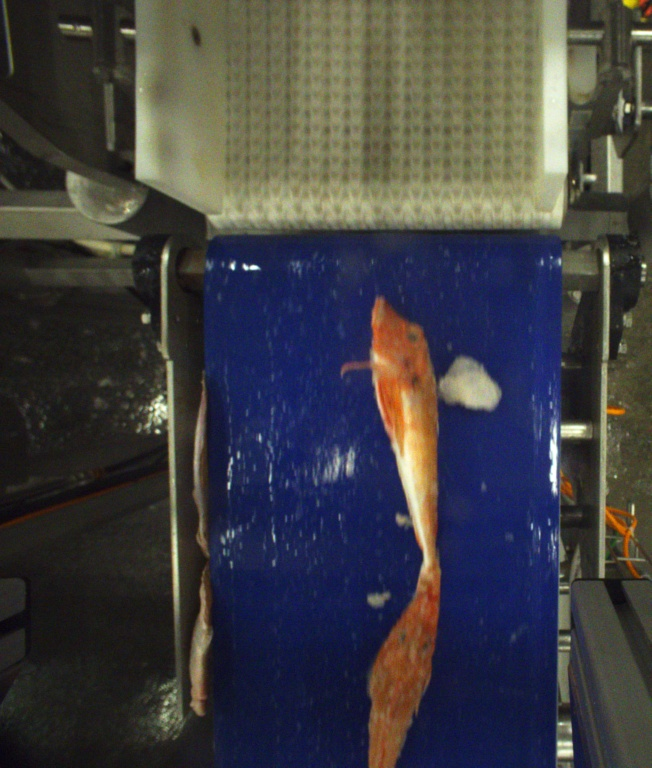GUU: (336, 297, 442, 576)
